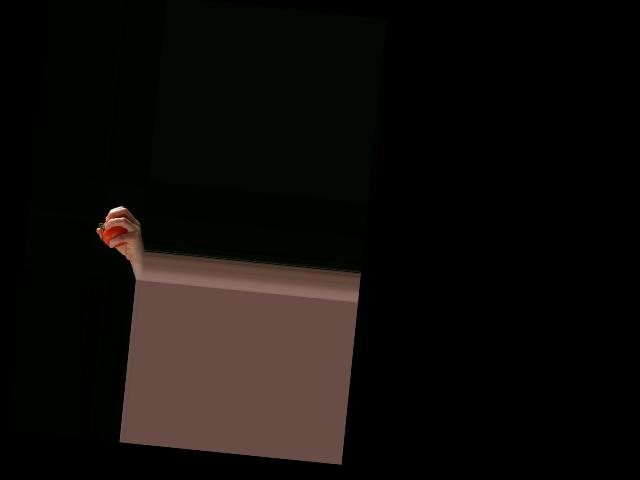tomato: (101, 221, 129, 248)
